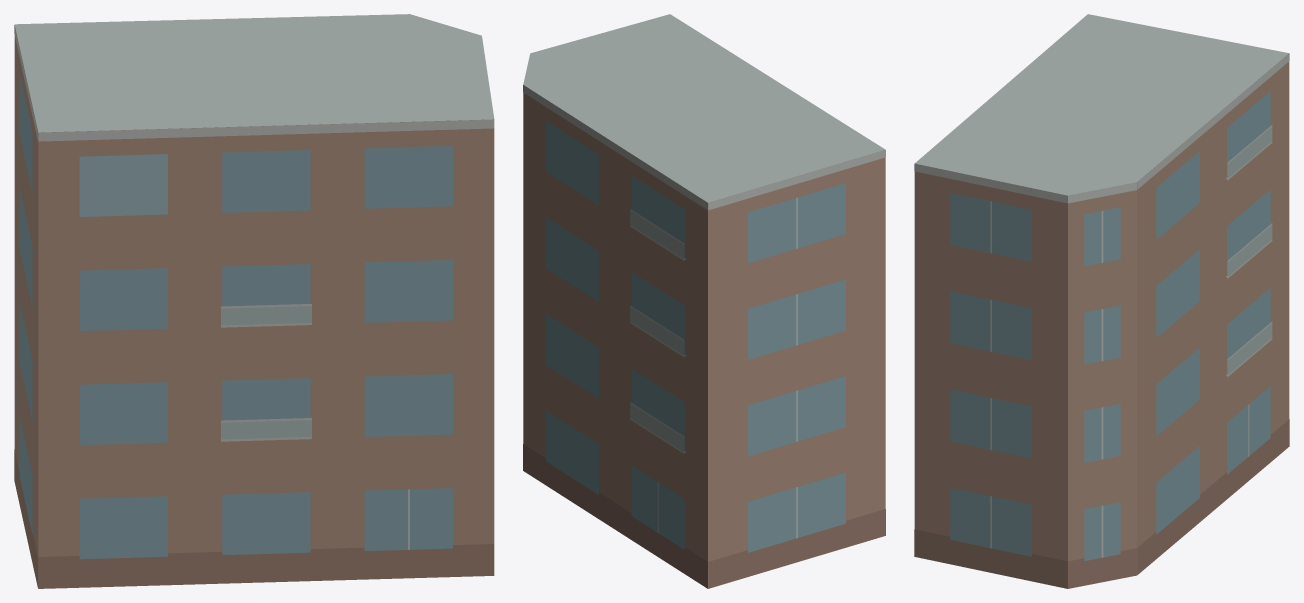
File: survey-upis-32727013.glb
3 renders of one model, left to right at view 1: azimuth 30°, elevation 25°; view 2: azimuth 150°, elevation 25°; view 3: azimuth 270°, elevation 25°, orthographic. The views are drawn at different scales.
Visible parts, largest first — view 1: survey-upis-32727013.tmp; view 2: survey-upis-32727013.tmp; view 3: survey-upis-32727013.tmp.
Part boxes in pixels (x1,y1,x2,y2): survey-upis-32727013.tmp: [14, 14, 494, 588]; survey-upis-32727013.tmp: [523, 14, 885, 588]; survey-upis-32727013.tmp: [914, 14, 1289, 588].
Size of the model in its own units: 12.2 by 12.3 by 10.64.
